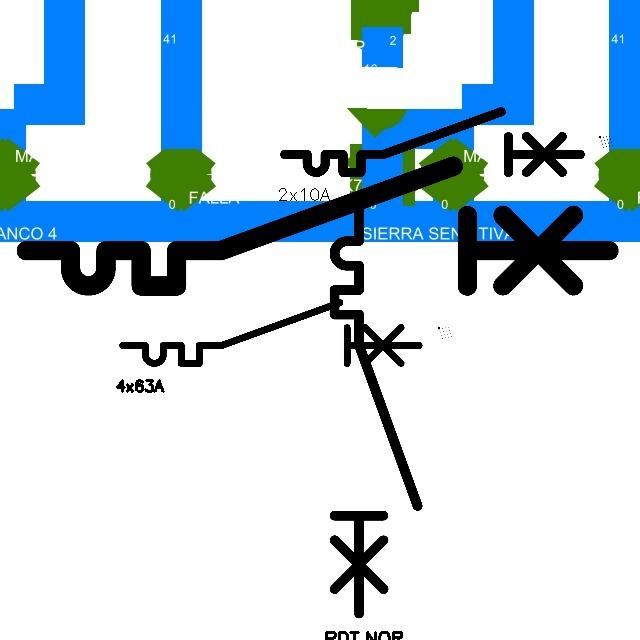interruptor_termomagnetico: (11, 151, 624, 301), (324, 200, 427, 624), (115, 295, 427, 371), (277, 104, 588, 180)
